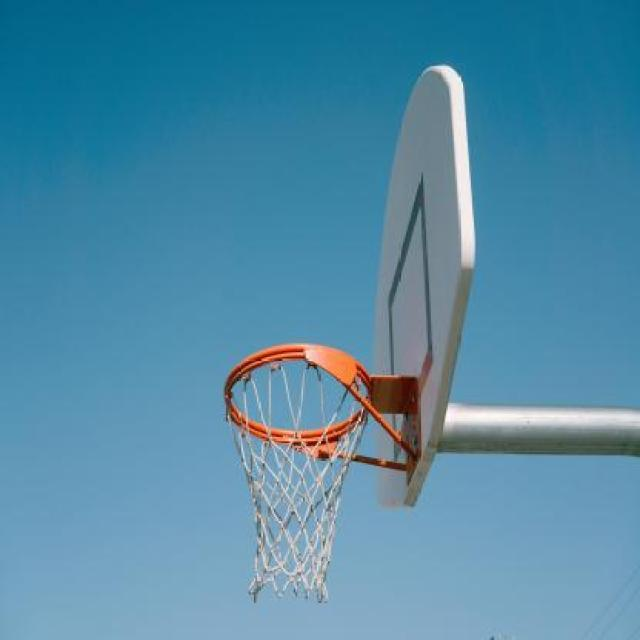rim: (224, 344, 370, 604)
